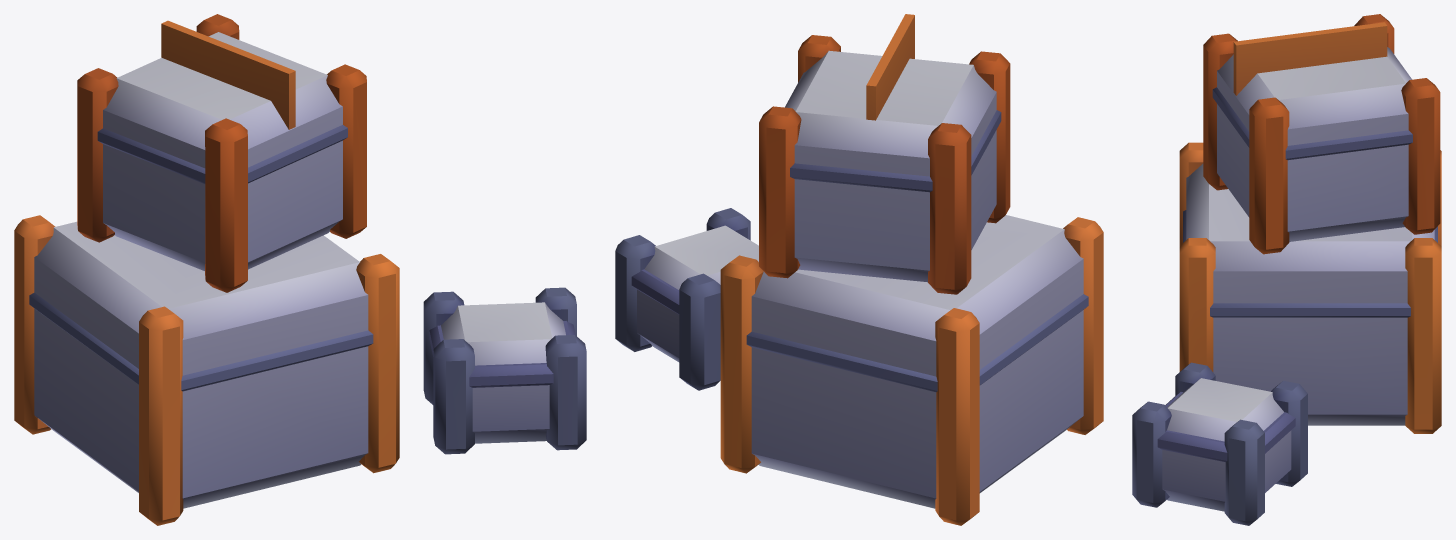
Rendered from hub_prop_crate_c.glb.
3 renders of one model, left to right at view 1: azimuth 30°, elevation 25°; view 2: azimuth 150°, elevation 25°; view 3: azimuth 270°, elevation 25°, orthographic. The views are drawn at different scales.
Parts seen in each view (by area): view 1: hub_prop_crate_c; view 2: hub_prop_crate_c; view 3: hub_prop_crate_c.
Boxes of the visible parts, x1=… form: hub_prop_crate_c: x1=14, y1=14, x2=586, y2=525; hub_prop_crate_c: x1=615, y1=14, x2=1103, y2=525; hub_prop_crate_c: x1=1132, y1=14, x2=1441, y2=525.
Bounding box in the file's own units: 2.12 × 1.75 × 1.37.
